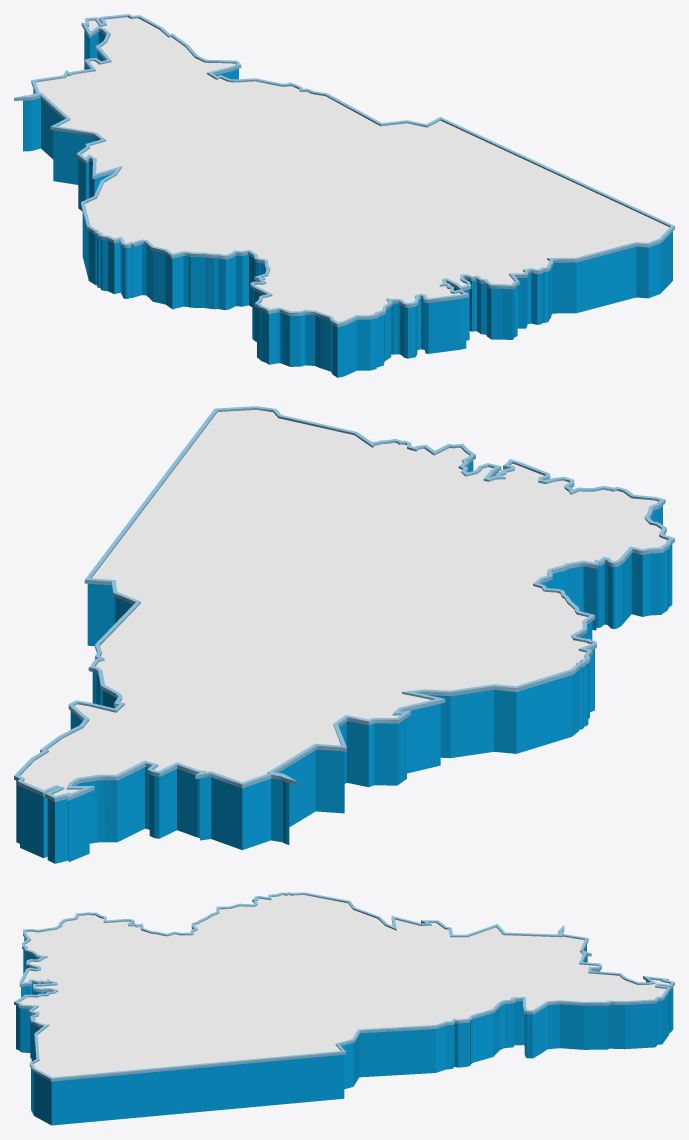
3 views of the same model, one above another, from view 1: azimuth 30°, elevation 25°; view 2: azimuth 150°, elevation 25°; view 3: azimuth 270°, elevation 25° (orthographic). The views are drawn at different scales.
Parts seen in each view (by area): view 1: celling, slide, 扫描.5; view 2: celling, slide, 扫描.5; view 3: celling, slide, 扫描.5.
Boxes of the visible parts, <box> form: celling: <box>36,17,669,322</box>; slide: <box>23,30,672,377</box>; 扫描.5: <box>14,14,674,327</box>; celling: <box>20,410,666,795</box>; slide: <box>16,460,672,863</box>; 扫描.5: <box>14,406,674,801</box>; celling: <box>19,895,669,1077</box>; slide: <box>16,938,673,1125</box>; 扫描.5: <box>14,892,674,1081</box>.
Bounding box in the file's own units: 434 × 51.47 × 651.
